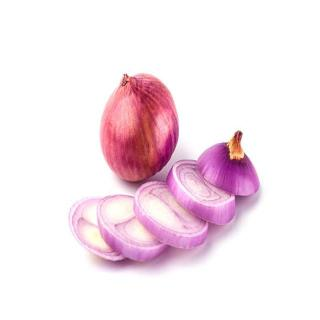Bawang Merah: (98, 71, 184, 183)
